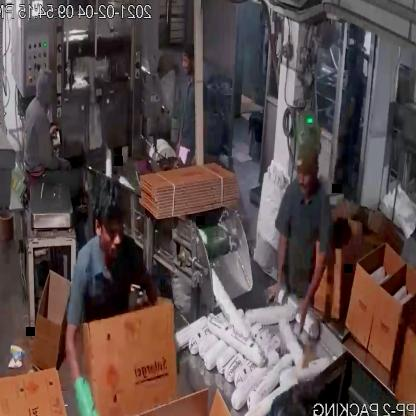glove: (66, 364, 106, 416)
no_glove: (294, 237, 329, 336), (265, 216, 294, 316)
